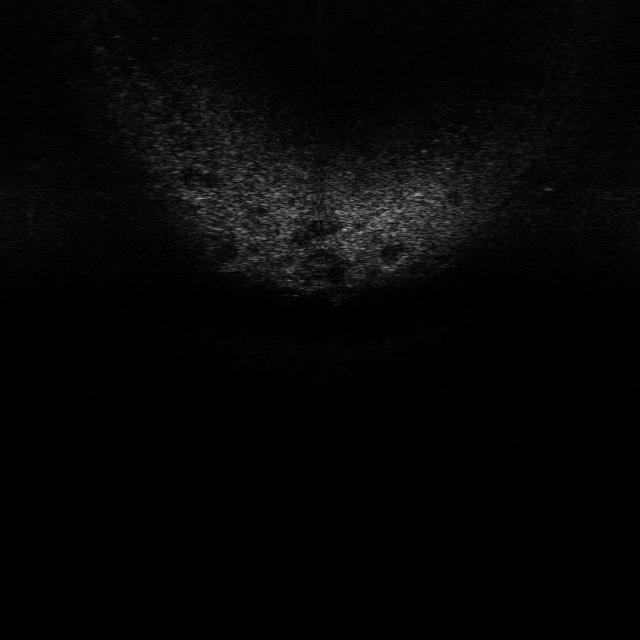ball: (323, 279, 352, 306)
